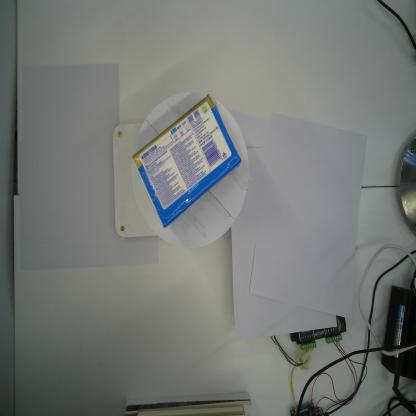Tissue: (131, 92, 242, 230)
